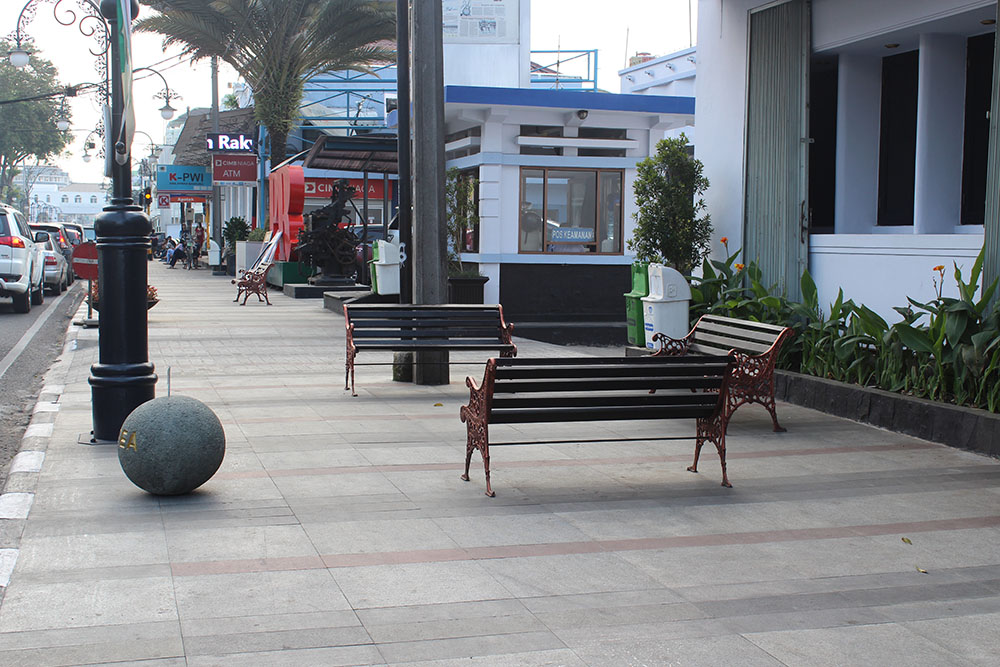bench: (461, 345, 736, 490), (336, 298, 523, 382), (230, 262, 274, 301)
